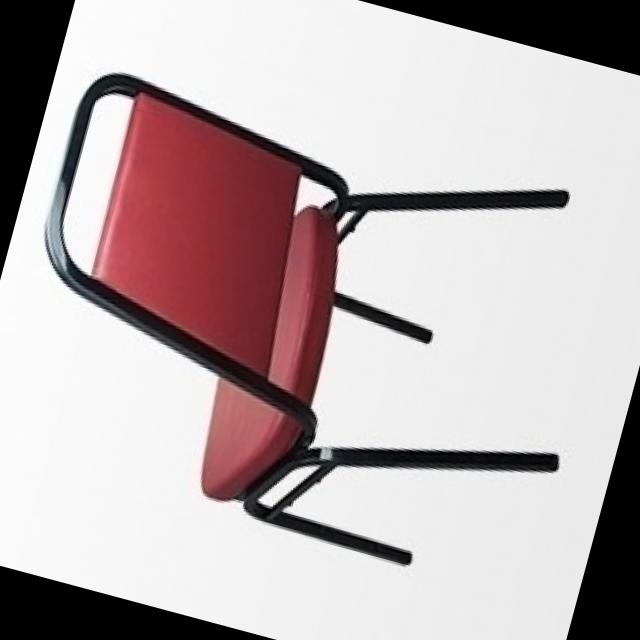Chair: (0, 50, 635, 600)
